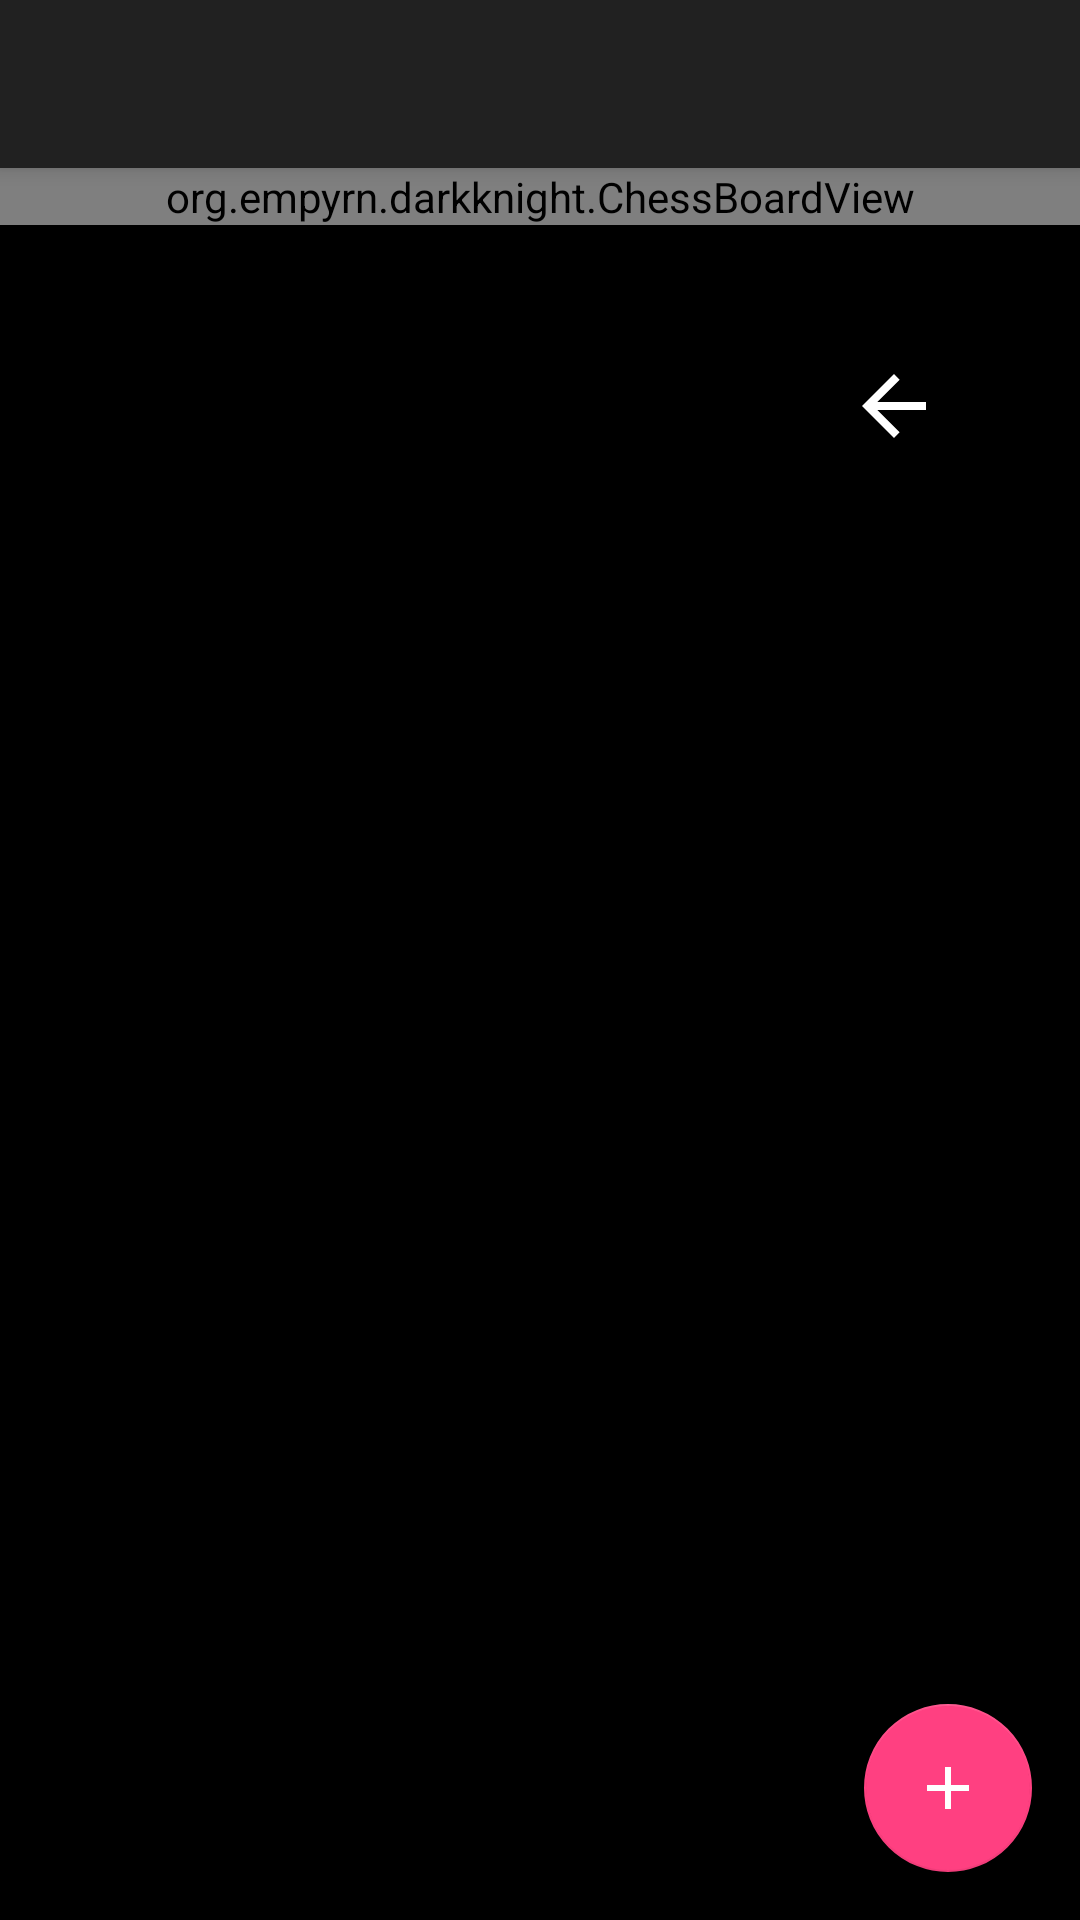

Where to tap for icons on this 1080 x 1920 app screen, as [x,y]:
add: [948,1788]
Previous Move: [894,406]
